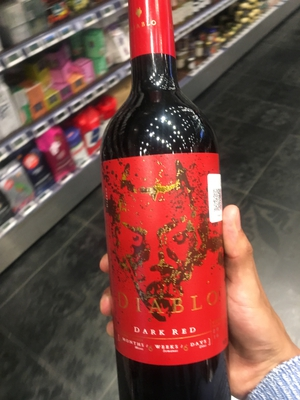diablo dark red: (99, 14, 251, 400)
